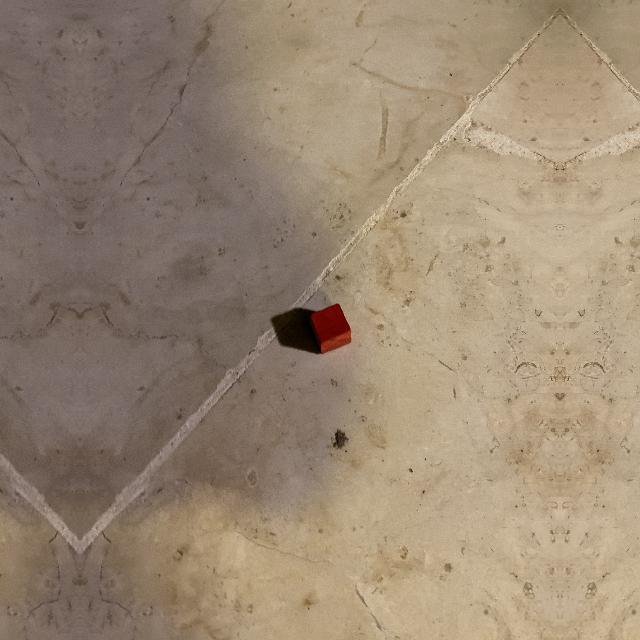red cube: (310, 304, 352, 354)
